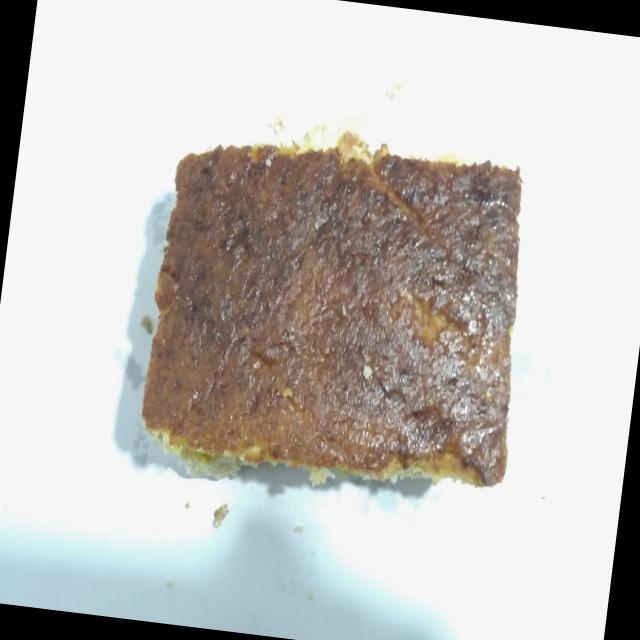Chipa_Guazu: (116, 111, 549, 519)
